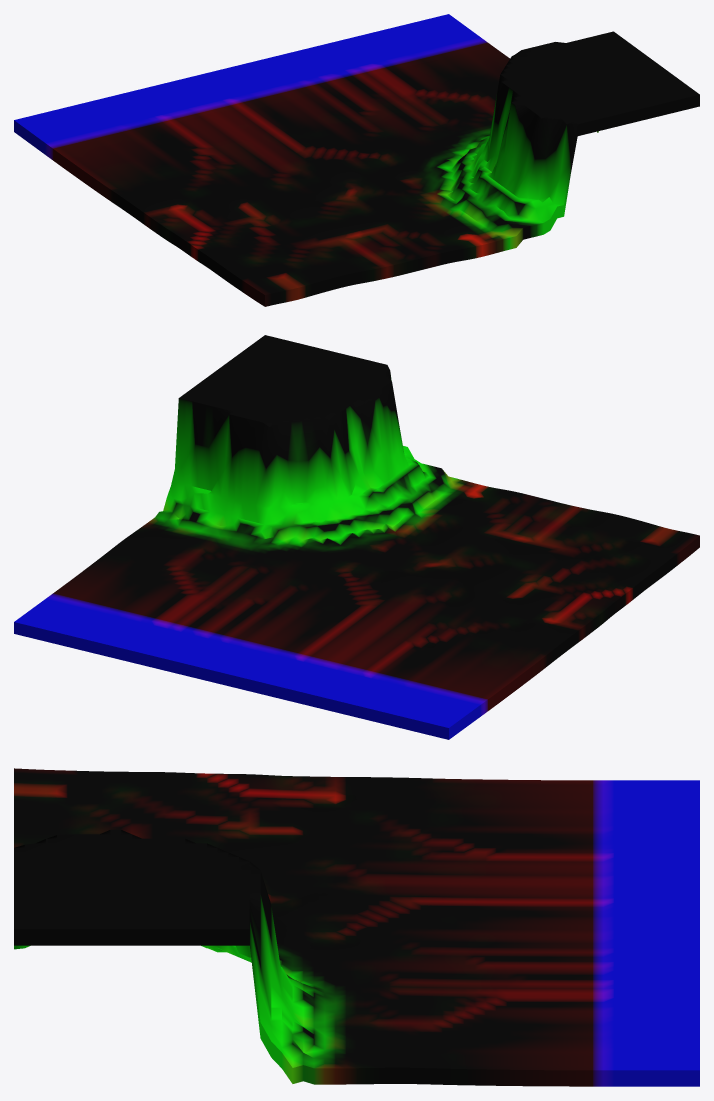
The model's file is Terrain_05_03.fbx.
3 renders of one model, top to bottom at view 1: azimuth 30°, elevation 25°; view 2: azimuth 150°, elevation 25°; view 3: azimuth 270°, elevation 25°, orthographic. The views are drawn at different scales.
Visible parts, largest first — view 1: Terrain_05_03_LOD0; view 2: Terrain_05_03_LOD0; view 3: Terrain_05_03_LOD0.
Part boxes in pixels (x1=…): Terrain_05_03_LOD0: x1=14, y1=14, x2=699, y2=306; Terrain_05_03_LOD0: x1=14, y1=335, x2=699, y2=739; Terrain_05_03_LOD0: x1=14, y1=768, x2=699, y2=1086.
Size of what is drawn, in the model's own units: 384 by 97.07 by 384.
